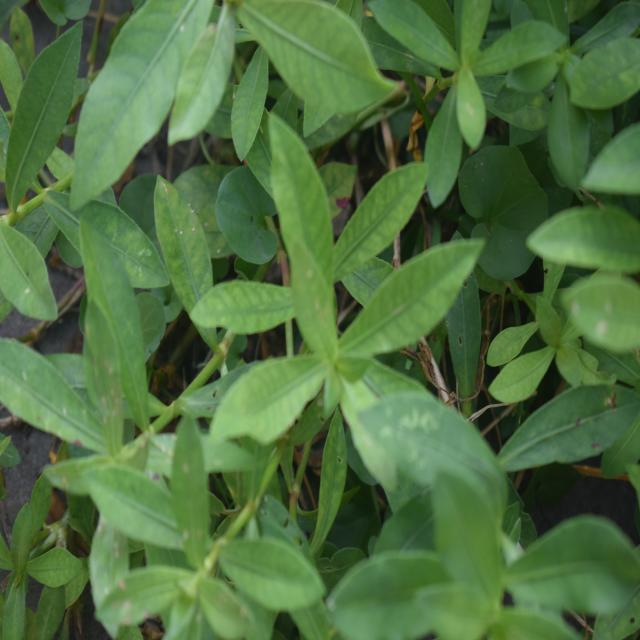Alligatorweed: (228, 129, 464, 499)
